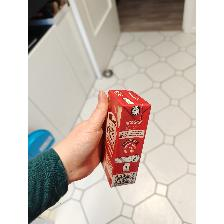Tomatensauce: (100, 89, 152, 189)
